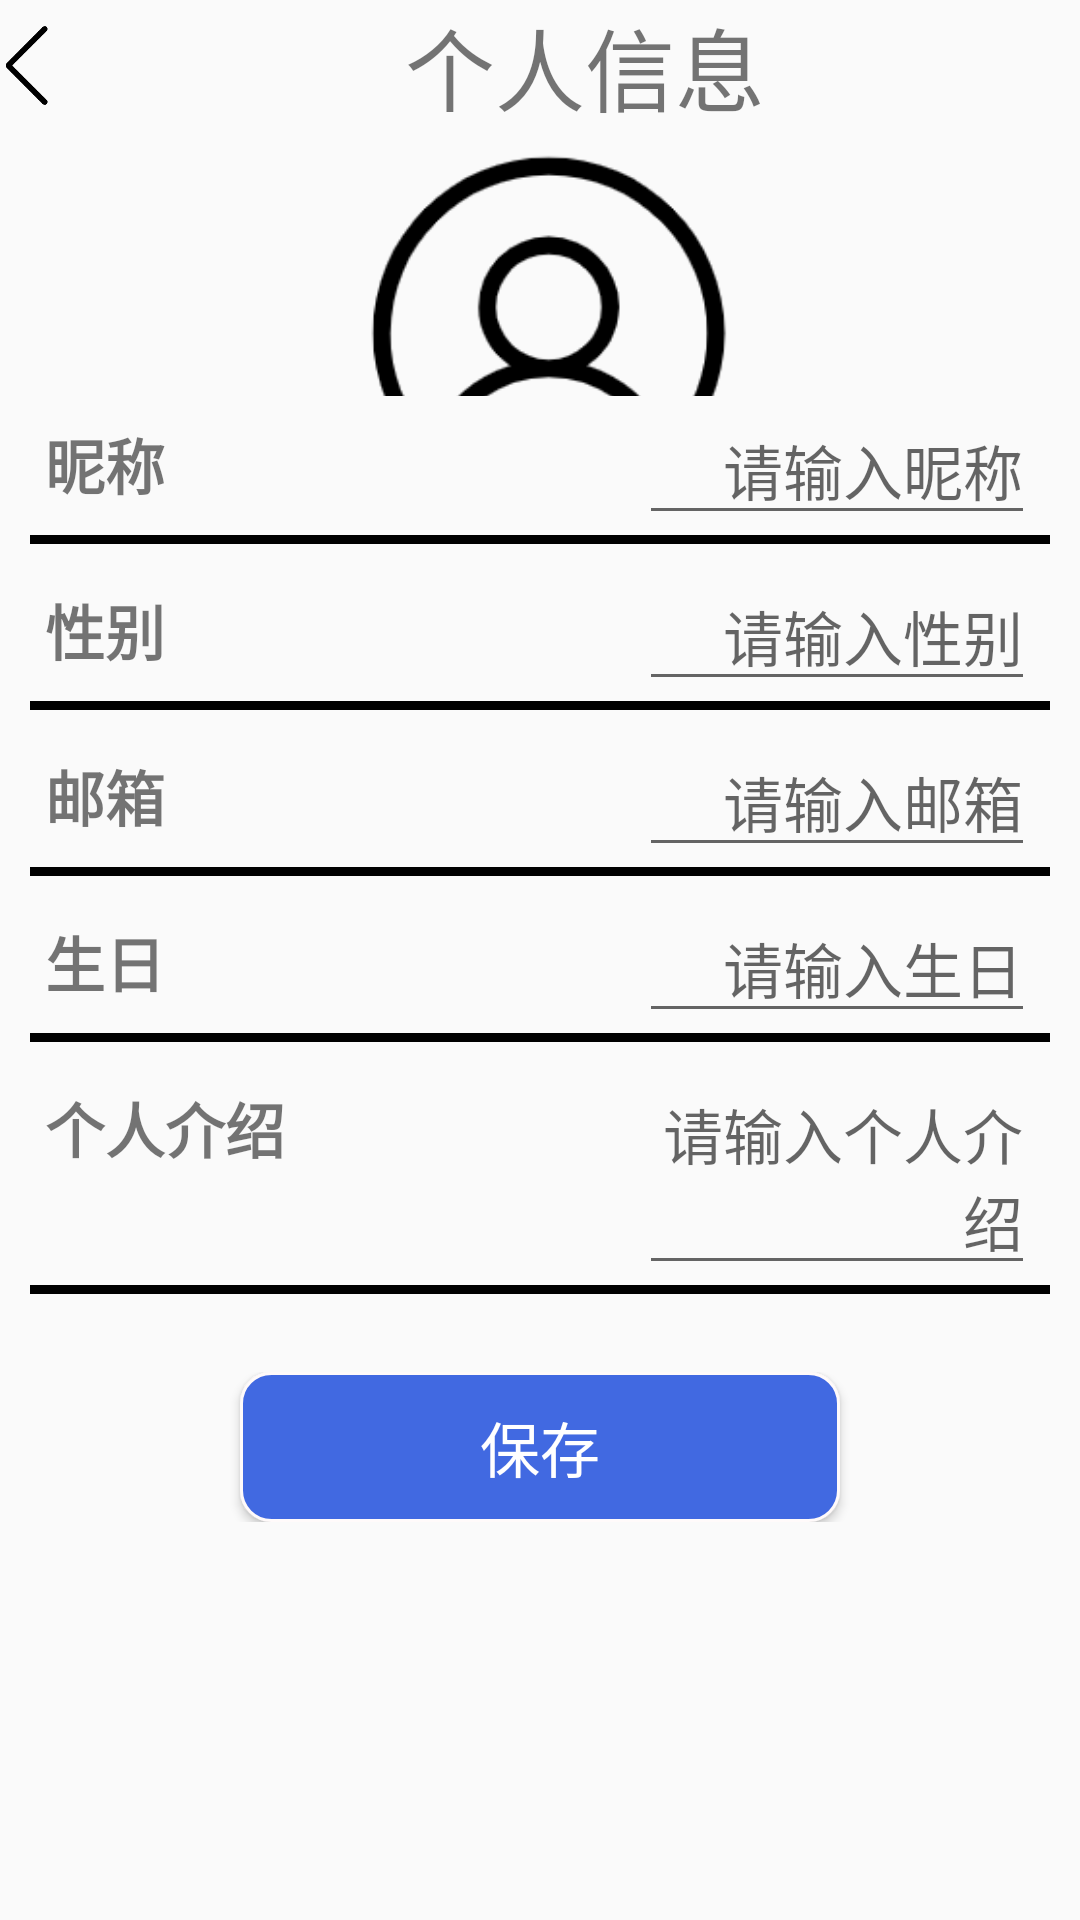

Icon bounding boxes for this 1080*1920 phone screenshot, format (x1=x1, y1=y1, x2=x2, y2=y2):
back: (x1=6, y1=26, x2=48, y2=105)
